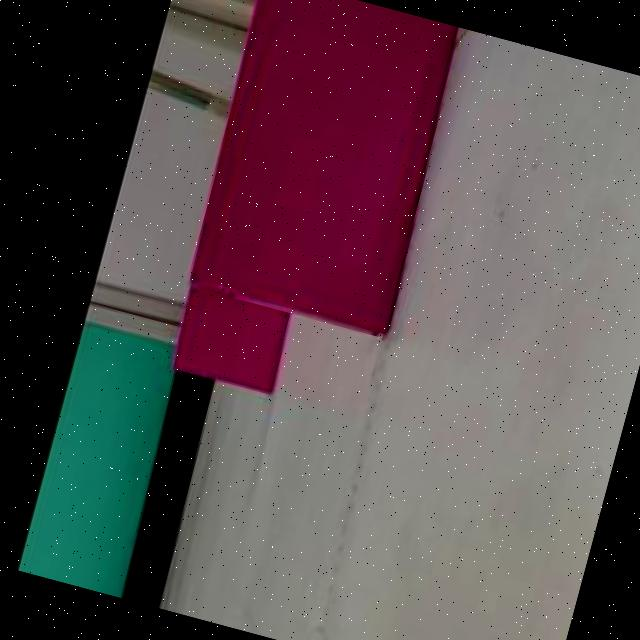xparking: (186, 0, 467, 326), (170, 295, 284, 388)
